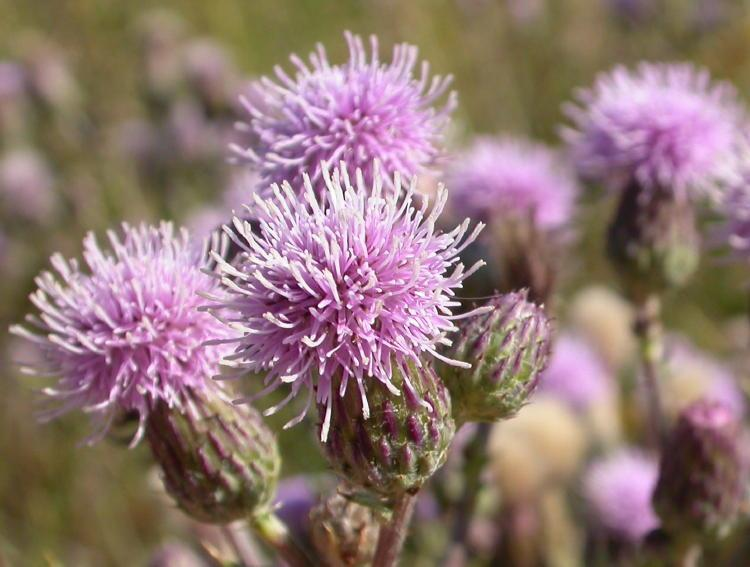thistle: (224, 166, 460, 507), (37, 224, 279, 546)
